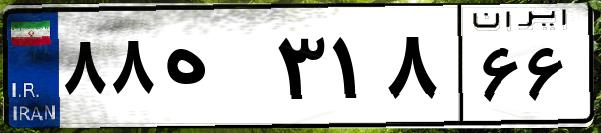1: (330, 28, 385, 110)
3: (270, 28, 330, 110)
6: (475, 38, 525, 113), (525, 38, 570, 115)
8: (385, 28, 445, 110), (57, 26, 110, 100), (110, 28, 158, 98)
ه: (158, 20, 270, 120)
